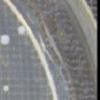white: (16, 24, 26, 38), (0, 34, 11, 46), (3, 84, 11, 93)
